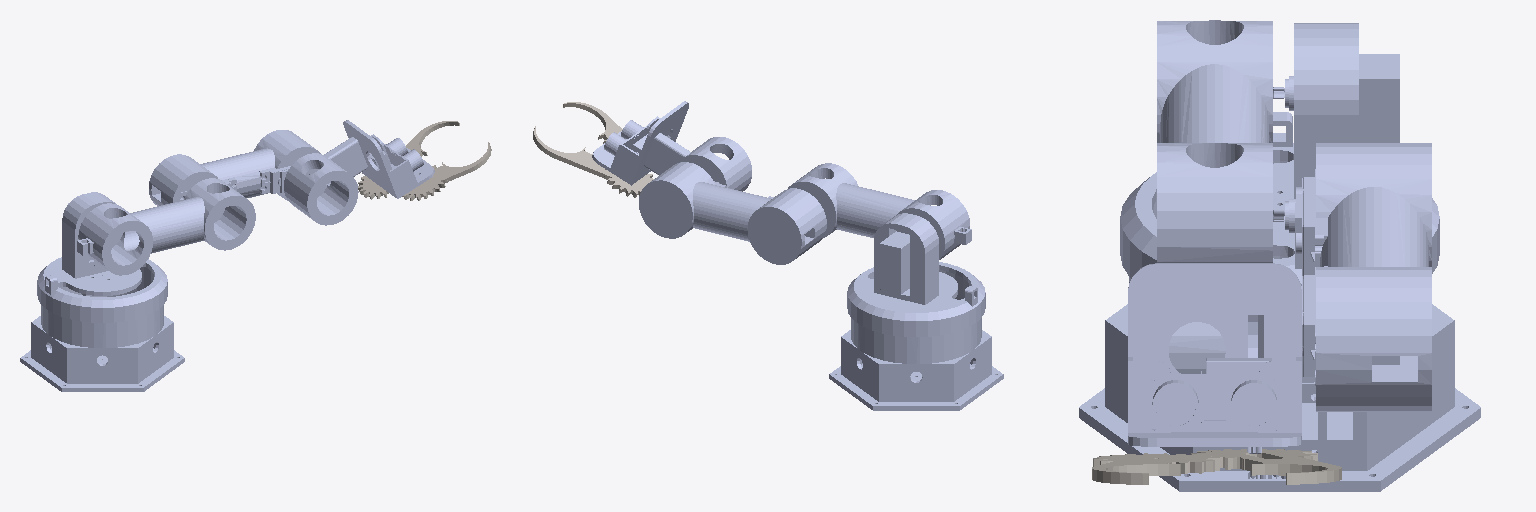
URDF robot description (udfmulyono6):
<?xml version="1.0" encoding="utf-8"?>
<!-- This URDF was automatically created by SolidWorks to URDF Exporter! Originally created by [author] ([email redacted]) 
     Commit Version: 1.6.0-4-g7f85cfe  Build Version: 1.6.7995.38578
     For more information, please see http://wiki.ros.org/sw_urdf_exporter -->
<robot
  name="udfmulyono6">
  <link
    name="base_link">
    <inertial>
      <origin
        xyz="-0.000783141102793202 -0.000191689245917794 0.03430148319969"
        rpy="0 0 0" />
      <mass
        value="0.15690853286764" />
      <inertia
        ixx="0.000236641740142685"
        ixy="2.82542879554346E-07"
        ixz="-1.34891540682362E-06"
        iyy="0.000228841896873732"
        iyz="3.07928333340519E-07"
        izz="0.000355889869251704" />
    </inertial>
    <visual>
      <origin
        xyz="0 0 0"
        rpy="0 0 0" />
      <geometry>
        <mesh
          filename="package://udfmulyono6/meshes/base_link.STL" />
      </geometry>
      <material
        name="">
        <color
          rgba="0.792156862745098 0.819607843137255 0.933333333333333 1" />
      </material>
    </visual>
    <collision>
      <origin
        xyz="0 0 0"
        rpy="0 0 0" />
      <geometry>
        <mesh
          filename="package://udfmulyono6/meshes/base_link.STL" />
      </geometry>
    </collision>
  </link>
  <link
    name="link1">
    <inertial>
      <origin
        xyz="-0.000306996179908139 0.0132973747434004 0.0186151313156119"
        rpy="0 0 0" />
      <mass
        value="0.110824441436758" />
      <inertia
        ixx="8.6446436305624E-05"
        ixy="-2.45268751646067E-07"
        ixz="-1.71291722291228E-07"
        iyy="9.13032174311983E-05"
        iyz="-8.7277036234354E-06"
        izz="8.72521287516748E-05" />
    </inertial>
    <visual>
      <origin
        xyz="0 0 0"
        rpy="0 0 0" />
      <geometry>
        <mesh
          filename="package://udfmulyono6/meshes/link1.STL" />
      </geometry>
      <material
        name="">
        <color
          rgba="0.792156862745098 0.819607843137255 0.933333333333333 1" />
      </material>
    </visual>
    <collision>
      <origin
        xyz="0 0 0"
        rpy="0 0 0" />
      <geometry>
        <mesh
          filename="package://udfmulyono6/meshes/link1.STL" />
      </geometry>
    </collision>
  </link>
  <joint
    name="joint1"
    type="revolute">
    <origin
      xyz="0 0 0.081"
      rpy="0 0 0" />
    <parent
      link="base_link" />
    <child
      link="link1" />
    <axis
      xyz="0 0 -1" />
    <limit
      lower="-3.14"
      upper="3.14"
      effort="1.08"
      velocity="7.48" />
  </joint>
  <link
    name="link2">
    <inertial>
      <origin
        xyz="0.049578539715324 -0.0009656282764679 0.0212736088250974"
        rpy="0 0 0" />
      <mass
        value="0.120061917018223" />
      <inertia
        ixx="4.09242749356238E-05"
        ixy="4.92478325646621E-08"
        ixz="5.00828524699795E-08"
        iyy="0.000279832707272307"
        iyz="1.31940887236388E-07"
        izz="0.000284291367428017" />
    </inertial>
    <visual>
      <origin
        xyz="0 0 0"
        rpy="0 0 0" />
      <geometry>
        <mesh
          filename="package://udfmulyono6/meshes/link2.STL" />
      </geometry>
      <material
        name="">
        <color
          rgba="0.792156862745098 0.819607843137255 0.933333333333333 1" />
      </material>
    </visual>
    <collision>
      <origin
        xyz="0 0 0"
        rpy="0 0 0" />
      <geometry>
        <mesh
          filename="package://udfmulyono6/meshes/link2.STL" />
      </geometry>
    </collision>
  </link>
  <joint
    name="joint2"
    type="revolute">
    <origin
      xyz="-7.57533663018131E-05 0 0.042225"
      rpy="1.5707963267949 0 0" />
    <parent
      link="link1" />
    <child
      link="link2" />
    <axis
      xyz="0 0 1" />
    <limit
      lower="-3.14"
      upper="3.14"
      effort="1.08"
      velocity="7.48" />
  </joint>
  <link
    name="link3">
    <inertial>
      <origin
        xyz="0.0500051385539461 2.6406555969638E-08 -0.0301358791790427"
        rpy="0 0 0" />
      <mass
        value="0.207694596899533" />
      <inertia
        ixx="5.53949882938886E-05"
        ixy="5.73935438654888E-07"
        ixz="-2.59008403107064E-12"
        iyy="0.000342361071393656"
        iyz="7.63149684254357E-12"
        izz="0.0003472033571648" />
    </inertial>
    <visual>
      <origin
        xyz="0 0 0"
        rpy="0 0 0" />
      <geometry>
        <mesh
          filename="package://udfmulyono6/meshes/link3.STL" />
      </geometry>
      <material
        name="">
        <color
          rgba="0.792156862745098 0.819607843137255 0.933333333333333 1" />
      </material>
    </visual>
    <collision>
      <origin
        xyz="0 0 0"
        rpy="0 0 0" />
      <geometry>
        <mesh
          filename="package://udfmulyono6/meshes/link3.STL" />
      </geometry>
    </collision>
  </link>
  <joint
    name="joint3"
    type="revolute">
    <origin
      xyz="0.0999999999999979 0 0"
      rpy="0 0 0" />
    <parent
      link="link2" />
    <child
      link="link3" />
    <axis
      xyz="0 0 1" />
    <limit
      lower="-3.14"
      upper="3.14"
      effort="1.08"
      velocity="7.48" />
  </joint>
  <link
    name="link4">
    <inertial>
      <origin
        xyz="0.0272558474718296 0.00346188283570689 0.0205881254256505"
        rpy="0 0 0" />
      <mass
        value="0.0812195400967062" />
      <inertia
        ixx="3.27017910035831E-05"
        ixy="-7.03944268443802E-06"
        ixz="-7.44781546436918E-07"
        iyy="8.38696037075882E-05"
        iyz="1.83789593029991E-07"
        izz="8.40003786860381E-05" />
    </inertial>
    <visual>
      <origin
        xyz="0 0 0"
        rpy="0 0 0" />
      <geometry>
        <mesh
          filename="package://udfmulyono6/meshes/link4.STL" />
      </geometry>
      <material
        name="">
        <color
          rgba="0.792156862745098 0.819607843137255 0.933333333333333 1" />
      </material>
    </visual>
    <collision>
      <origin
        xyz="0 0 0"
        rpy="0 0 0" />
      <geometry>
        <mesh
          filename="package://udfmulyono6/meshes/link4.STL" />
      </geometry>
    </collision>
  </link>
  <joint
    name="joint4"
    type="revolute">
    <origin
      xyz="0.100010208352394 0 0"
      rpy="0 0 0" />
    <parent
      link="link3" />
    <child
      link="link4" />
    <axis
      xyz="0 0 1" />
    <limit
      lower="-3.14"
      upper="3.14"
      effort="1.08"
      velocity="7.48" />
  </joint>
  <link
    name="grippermotor">
    <inertial>
      <origin
        xyz="0.0161741737790265 -0.00591349975972587 -0.00194711687306982"
        rpy="0 0 0" />
      <mass
        value="0.00764762460244495" />
      <inertia
        ixx="1.11084883671302E-06"
        ixy="1.37185287987019E-06"
        ixz="2.74271028971263E-09"
        iyy="4.31062375951459E-06"
        iyz="-1.12101077316065E-09"
        izz="5.40112170569914E-06" />
    </inertial>
    <visual>
      <origin
        xyz="0 0 0"
        rpy="0 0 0" />
      <geometry>
        <mesh
          filename="package://udfmulyono6/meshes/grippermotor.STL" />
      </geometry>
      <material
        name="">
        <color
          rgba="0.776470588235294 0.756862745098039 0.737254901960784 1" />
      </material>
    </visual>
    <collision>
      <origin
        xyz="0 0 0"
        rpy="0 0 0" />
      <geometry>
        <mesh
          filename="package://udfmulyono6/meshes/grippermotor.STL" />
      </geometry>
    </collision>
  </link>
  <joint
    name="grippermotor"
    type="revolute">
    <origin
      xyz="0.0689261797267348 -0.0158487144045856 0.0087100000000014"
      rpy="1.5707963267949 0 0.358072014561217" />
    <parent
      link="link4" />
    <child
      link="grippermotor" />
    <axis
      xyz="0 0 1" />
    <limit
      lower="-3.14"
      upper="3.14"
      effort="0.21575"
      velocity="10.47" />
  </joint>
  <link
    name="end">
    <inertial>
      <origin
        xyz="-0.0704448385256988 0.00529182073340676 -0.00194711687306975"
        rpy="0 0 0" />
      <mass
        value="0.00764762460244495" />
      <inertia
        ixx="1.11084883671302E-06"
        ixy="1.37185287987019E-06"
        ixz="2.742710289712E-09"
        iyy="4.31062375951459E-06"
        iyz="-1.12101077316046E-09"
        izz="5.40112170569914E-06" />
    </inertial>
    <visual>
      <origin
        xyz="0 0 0"
        rpy="0 0 0" />
      <geometry>
        <mesh
          filename="package://udfmulyono6/meshes/end.STL" />
      </geometry>
      <material
        name="">
        <color
          rgba="0.776470588235294 0.756862745098039 0.737254901960784 1" />
      </material>
    </visual>
    <collision>
      <origin
        xyz="0 0 0"
        rpy="0 0 0" />
      <geometry>
        <mesh
          filename="package://udfmulyono6/meshes/end.STL" />
      </geometry>
    </collision>
  </link>
  <joint
    name="end"
    type="fixed">
    <origin
      xyz="0.086619 -0.011205 0"
      rpy="0 0 0" />
    <parent
      link="grippermotor" />
    <child
      link="end" />
    <axis
      xyz="0 0 0" />
  </joint>
  <link
    name="gripperikut">
    <inertial>
      <origin
        xyz="0.00804213349608796 0.00306946442669647 -0.00199999999999999"
        rpy="0 0 0" />
      <mass
        value="0.00641643405685643" />
      <inertia
        ixx="7.48754776740673E-07"
        ixy="-5.48545376180117E-07"
        ixz="1.05879118406788E-22"
        iyy="2.04547810666641E-06"
        iyz="-1.7091590044293E-22"
        izz="2.77712239258879E-06" />
    </inertial>
    <visual>
      <origin
        xyz="0 0 0"
        rpy="0 0 0" />
      <geometry>
        <mesh
          filename="package://udfmulyono6/meshes/gripperikut.STL" />
      </geometry>
      <material
        name="">
        <color
          rgba="0.776470588235294 0.756862745098039 0.737254901960784 1" />
      </material>
    </visual>
    <collision>
      <origin
        xyz="0 0 0"
        rpy="0 0 0" />
      <geometry>
        <mesh
          filename="package://udfmulyono6/meshes/gripperikut.STL" />
      </geometry>
    </collision>
  </link>
  <joint
    name="gripperikut"
    type="revolute">
    <origin
      xyz="0.0885942392586775 -0.00848886153595051 0.0424100000000001"
      rpy="1.5707963267949 0 0.358072014561217" />
    <parent
      link="link4" />
    <child
      link="gripperikut" />
    <axis
      xyz="0 0 1" />
    <limit
      lower="-3.14"
      upper="3.14"
      effort="0.21575"
      velocity="10.47" />
  </joint>
  <link
    name="end2">
    <inertial>
      <origin
        xyz="-0.0590384962400248 5.09193787376835E-05 -0.00199999999999999"
        rpy="0 0 0" />
      <mass
        value="0.00641643405685643" />
      <inertia
        ixx="7.48754776740673E-07"
        ixy="-5.48545376180117E-07"
        ixz="-5.29395592033938E-22"
        iyy="2.04547810666641E-06"
        iyz="-1.9598114153884E-22"
        izz="2.7771223925888E-06" />
    </inertial>
    <visual>
      <origin
        xyz="0 0 0"
        rpy="0 0 0" />
      <geometry>
        <mesh
          filename="package://udfmulyono6/meshes/end2.STL" />
      </geometry>
      <material
        name="">
        <color
          rgba="0.776470588235294 0.756862745098039 0.737254901960784 1" />
      </material>
    </visual>
    <collision>
      <origin
        xyz="0 0 0"
        rpy="0 0 0" />
      <geometry>
        <mesh
          filename="package://udfmulyono6/meshes/end2.STL" />
      </geometry>
    </collision>
  </link>
  <joint
    name="end2"
    type="fixed">
    <origin
      xyz="0.0670806297361128 0.00301854504795881 0"
      rpy="0 0 0" />
    <parent
      link="gripperikut" />
    <child
      link="end2" />
    <axis
      xyz="0 0 0" />
  </joint>
</robot>

--- Render facts (derived) ---
The picture shows the robot from 3 angles, left to right: view 1: azimuth 30°, elevation 25°; view 2: azimuth 150°, elevation 25°; view 3: azimuth 270°, elevation 25°; orthographic projection.
Model udfmulyono6 with 9 links and 8 joints (6 revolute, 2 fixed), rooted at base_link, posed every joint at zero.
Visible links, largest first — view 1: base_link, link2, link4, link1, link3, gripperikut, end; view 2: base_link, link1, link3, link2, link4, grippermotor; view 3: link3, link4, link2, base_link, link1, gripperikut, grippermotor, end.
Boxes of the visible links, x1,y1,x2,y2 form: base_link: (20, 267, 184, 391); link2: (77, 178, 255, 275); link4: (284, 120, 434, 225); link1: (37, 192, 167, 322); link3: (149, 130, 320, 205); gripperikut: (402, 143, 491, 200); end: (358, 121, 459, 199); base_link: (829, 270, 1003, 410); link1: (847, 213, 985, 336); link3: (639, 162, 826, 264); link2: (788, 163, 971, 259); link4: (592, 101, 751, 191); grippermotor: (533, 127, 652, 197); link3: (1273, 143, 1431, 411); link4: (1128, 263, 1301, 453); link2: (1157, 20, 1272, 262); base_link: (1079, 161, 1480, 491); link1: (1120, 23, 1439, 285); gripperikut: (1092, 453, 1219, 484); grippermotor: (1192, 449, 1341, 484); end: (1191, 449, 1341, 484).
Size in the robot's own frame: 0.4114 by 0.1386 by 0.1699 metres.
9 mesh visuals loaded from 9 distinct referenced files (9 binary STL).
